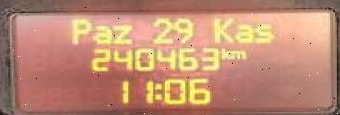0: (161, 77, 185, 104), (131, 45, 153, 70)
1: (118, 77, 129, 104), (143, 75, 151, 104)
2: (151, 15, 173, 43), (90, 47, 110, 72)
3: (199, 45, 218, 70)
4: (111, 46, 131, 69), (155, 48, 175, 69)
6: (186, 76, 211, 106), (176, 47, 198, 71)
9: (173, 16, 193, 42)
X: (68, 17, 89, 44), (211, 15, 231, 43), (111, 21, 131, 44), (91, 23, 111, 44), (253, 22, 273, 42), (233, 22, 251, 43), (228, 48, 246, 59), (153, 81, 159, 101), (219, 45, 228, 58)
